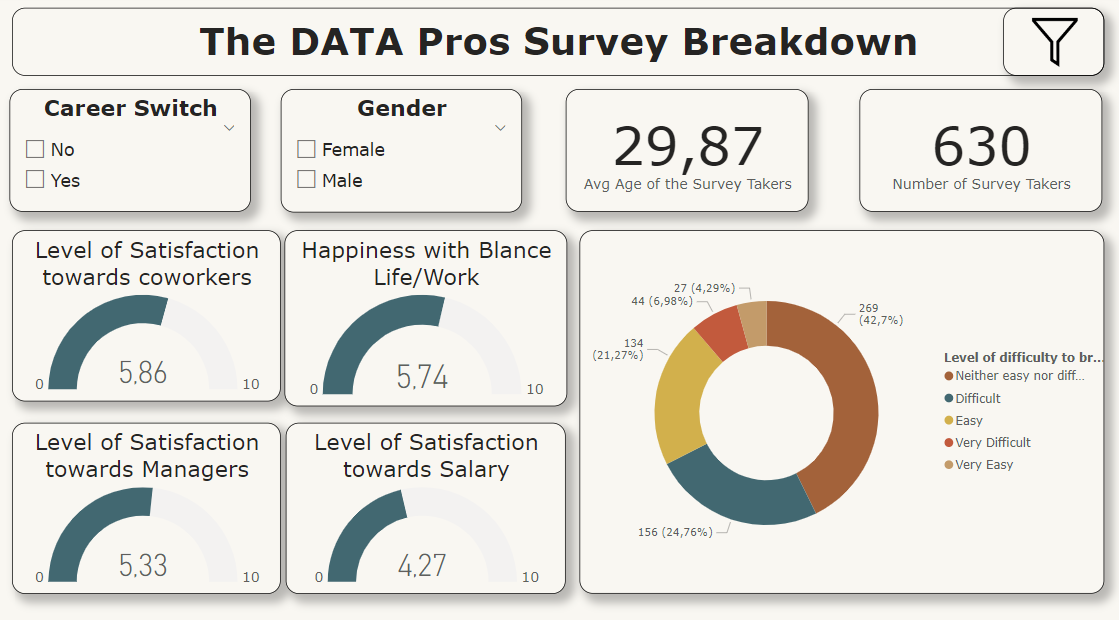

The dashboard page shown, as its layout file describes it:
{"tool":"powerbi","page":{"name":"Gauges of Satisfactions","canvas":[1280,720],"ordinal":1},"visuals":[{"type":"textbox","box":[16.5,15,1245.8,78],"z":0},{"type":"image","box":[1146.8,15.2,115.3,77.4],"z":1},{"type":"gauge","title":"Level of Satisfaction towards coworkers","fields":{"Y":["Avg(Data Professional Survey.Level of Satisfaction (Coworkers))"],"MinValue":["Min(Data Professional Survey.Level of Satisfaction (Coworkers))"],"MaxValue":["Max(Data Professional Survey.Level of Satisfaction (Coworkers))1"]},"box":[17.1,269.4,306.5,195.3],"z":4},{"type":"gauge","title":"Happiness with Blance Life/Work","fields":{"Y":["Avg(Data Professional Survey.Level of Satisfaction (Work/Life Balance))"],"MinValue":["Min(Data Professional Survey.Level of Satisfaction (Work/Life Balance))"],"MaxValue":["Max(Data Professional Survey.Level of Satisfaction (Work/Life Balance))"]},"box":[327.8,269.4,322.1,201],"z":5},{"type":"gauge","title":"Level of Satisfaction towards Managers","fields":{"Y":["Avg(Data Professional Survey.Level of Satisfaction (Management))"],"MinValue":["Min(Data Professional Survey.Level of Satisfaction (Management))"],"MaxValue":["Max(Data Professional Survey.Level of Satisfaction (Management))1"]},"box":[17.1,488.9,306.5,195.3],"z":6},{"type":"gauge","title":"Level of Satisfaction towards Salary","fields":{"Y":["Avg(Data Professional Survey.Level of Satisfaction (Salary))"],"MinValue":["Min(Data Professional Survey.Level of Satisfaction (Salary))"],"MaxValue":["Max(Data Professional Survey.Level of Satisfaction (Salary))1"]},"box":[329.3,488.9,319.3,195.3],"z":7},{"type":"donutChart","fields":{"Category":["Data Professional Survey.Level of difficulty to break into Data"],"Y":["CountNonNull(Data Professional Survey.Level of difficulty to break into Data)"]},"box":[664.2,269.4,598.7,414.8],"z":8},{"type":"slicer","title":"Career Switch","fields":{"Values":["Data Professional Survey.Q2 - Did you switch careers into Data?"]},"box":[14.3,108.3,275.1,139.7],"z":9},{"type":"slicer","title":"Gender","fields":{"Values":["Data Professional Survey.Q9 - Male/Female?"]},"box":[323.6,108.3,275.1,141.1],"z":10},{"type":"card","title":"Gender","fields":{"Values":["Count(Data Professional Survey.Unique ID)"]},"box":[983.5,108.3,276.5,139.7],"z":11},{"type":"card","title":"Gender","fields":{"Values":["Avg(Data Professional Survey.Age)"]},"box":[648.6,108.3,276.5,139.7],"z":12}]}

Visuals, with their boxes in screenshot pixels (x1, y1, x2, y2), scaled from the page's 1280x720 canvas onto the 1119x620 screenshot:
textbox: crop(14, 13, 1104, 80)
image: crop(1003, 13, 1103, 80)
"Level of Satisfaction towards coworkers" gauge: crop(15, 232, 283, 400)
"Happiness with Blance Life/Work" gauge: crop(287, 232, 568, 405)
"Level of Satisfaction towards Managers" gauge: crop(15, 421, 283, 589)
"Level of Satisfaction towards Salary" gauge: crop(288, 421, 567, 589)
donutChart - Data Professional Survey.Level of difficulty to break into Data x CountNonNull(Data Professional Survey.Level of difficulty to break into Data): crop(581, 232, 1104, 589)
"Career Switch" slicer: crop(13, 93, 253, 214)
"Gender" slicer: crop(283, 93, 523, 215)
"Gender" card: crop(860, 93, 1102, 214)
"Gender" card: crop(567, 93, 809, 214)
